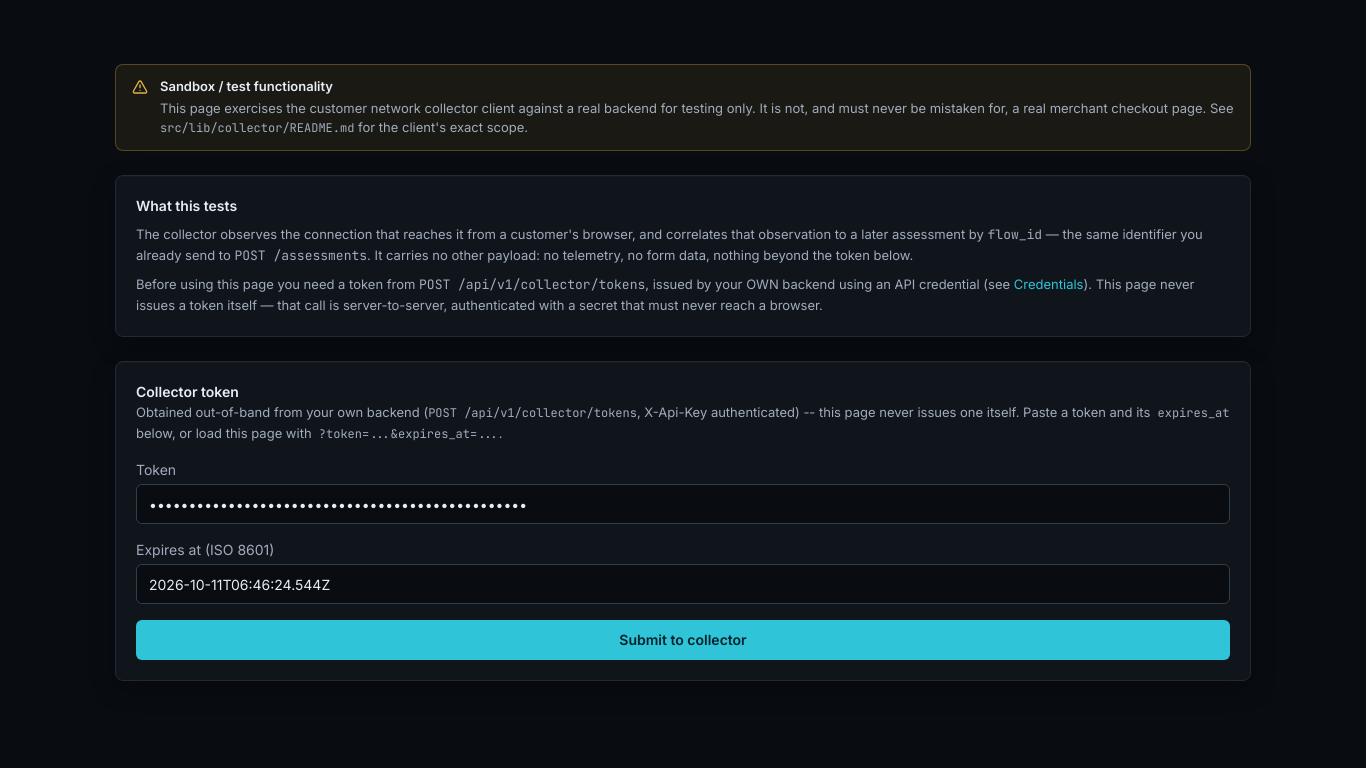
Test case: Collector sandbox demo page (Wave 30 Phase 12/18) › Wave 32B: shows a human-readable title for a success outcome, not only the raw code
Click the button with test id "collector-submit": (683,640) [136,620,1230,660]
(page scrolled)
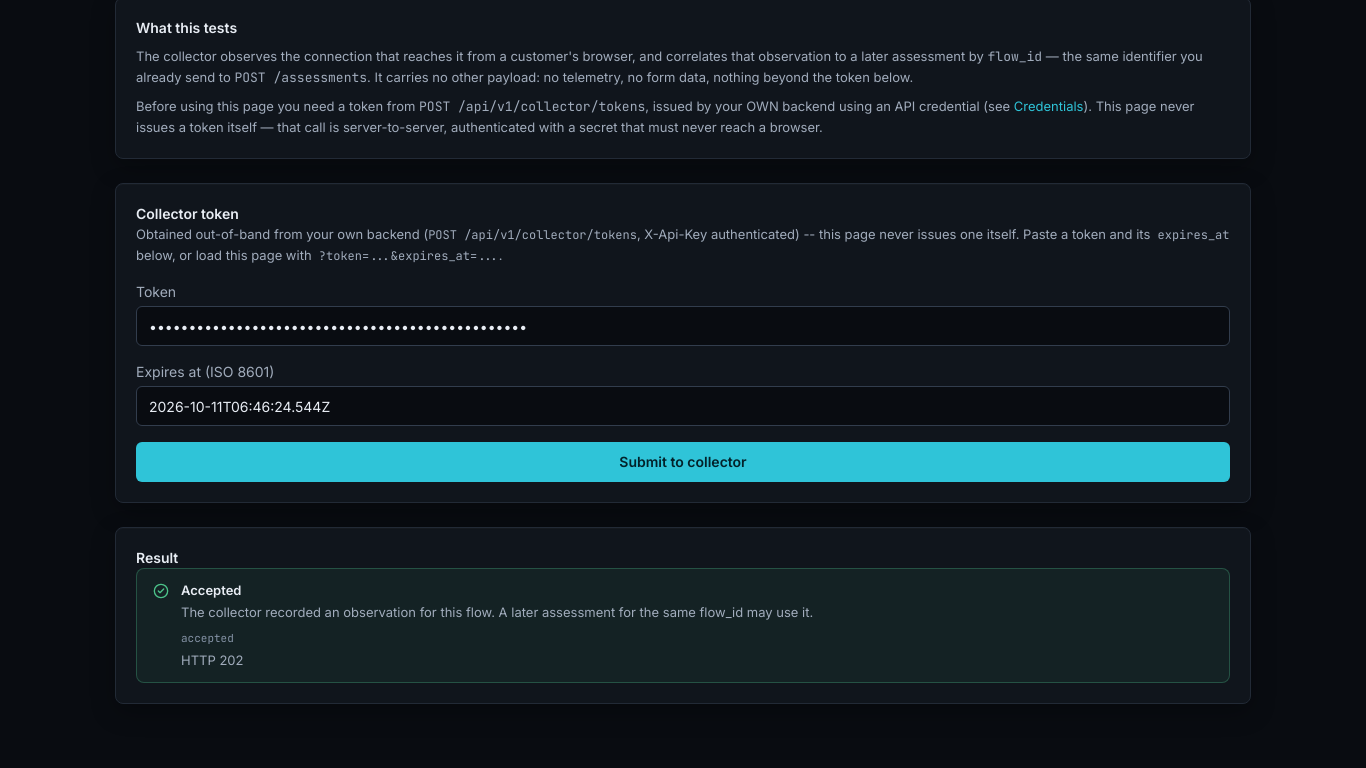
expect the element with test id "collector-result" shows "Accepted": met, box [181,582,242,598]
